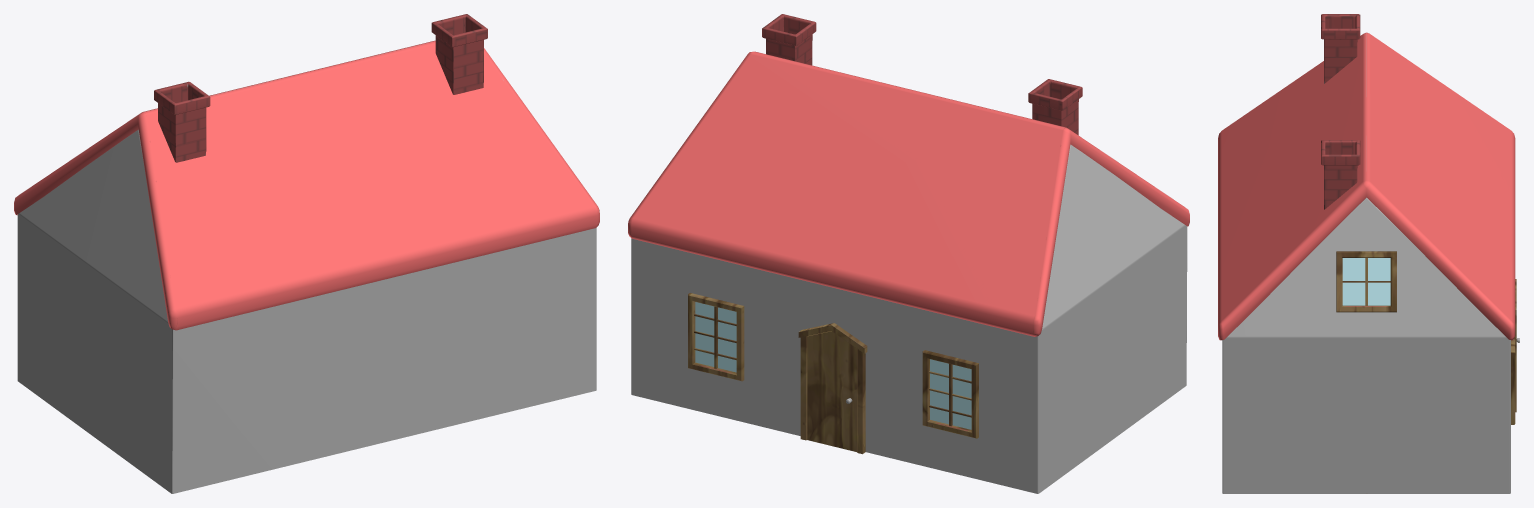
File: house_b.fbx
3 views of the same model, side by side, from view 1: azimuth 30°, elevation 25°; view 2: azimuth 150°, elevation 25°; view 3: azimuth 270°, elevation 25° (orthographic). The views are drawn at different scales.
Parts seen in each view (by area): view 1: house_B; view 2: house_B; view 3: house_B.
Part boxes in pixels (left/top/right/bottom): house_B: left=14, top=14, right=599, bottom=493; house_B: left=628, top=14, right=1189, bottom=493; house_B: left=1218, top=14, right=1519, bottom=493.
Bounding box in the file's own units: 23.76 × 17.72 × 15.5.
